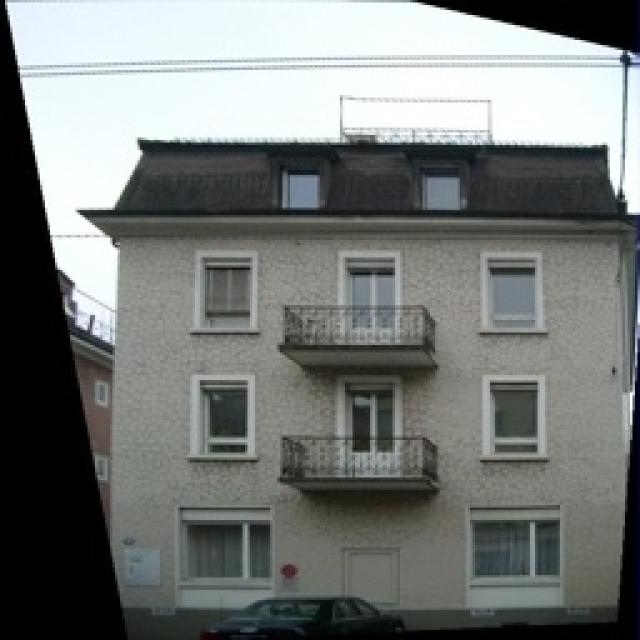building: (102, 112, 640, 640)
